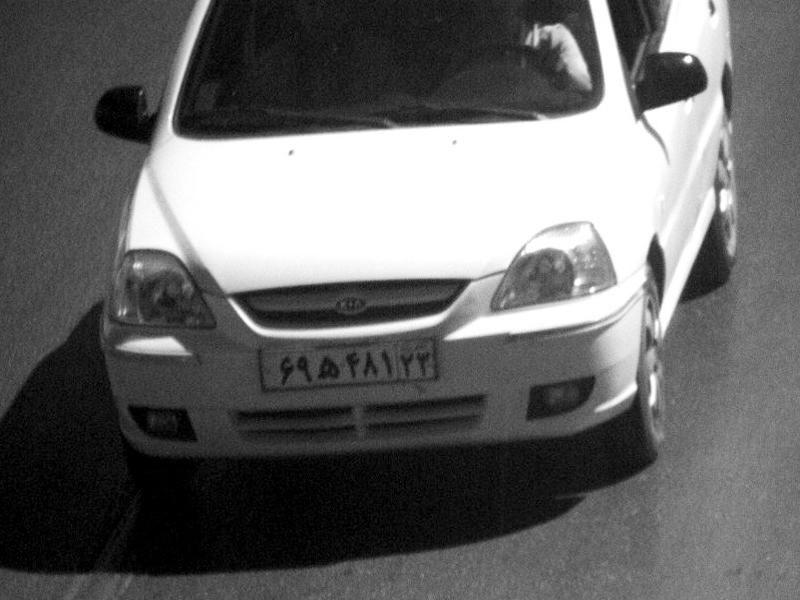Plate: (269, 336, 431, 391)
